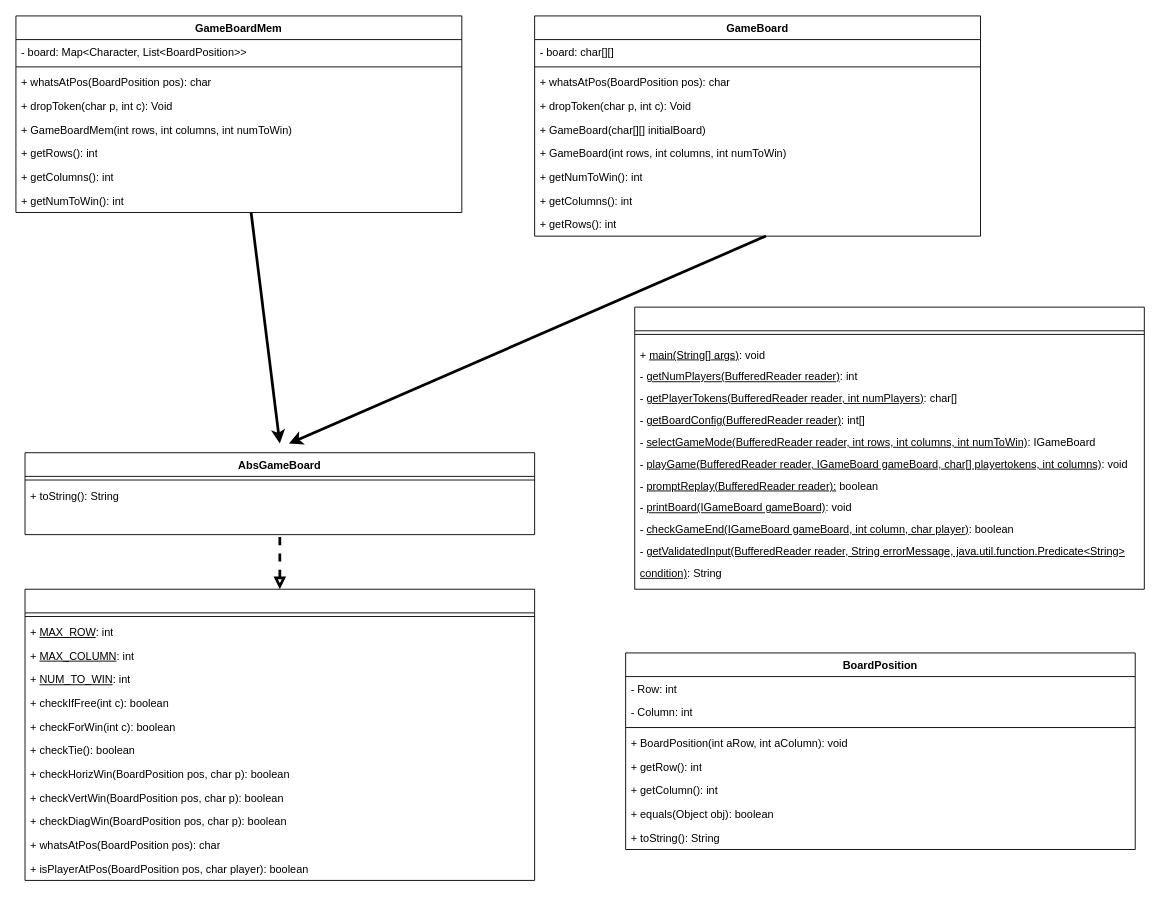
Some shapes in this 1160 by 899 pixel diagram are drawn without their labels. Each missing label, with the box of its shape:
GameScreen: (634, 306, 1144, 589)
IGameBoard: (24, 588, 535, 880)
